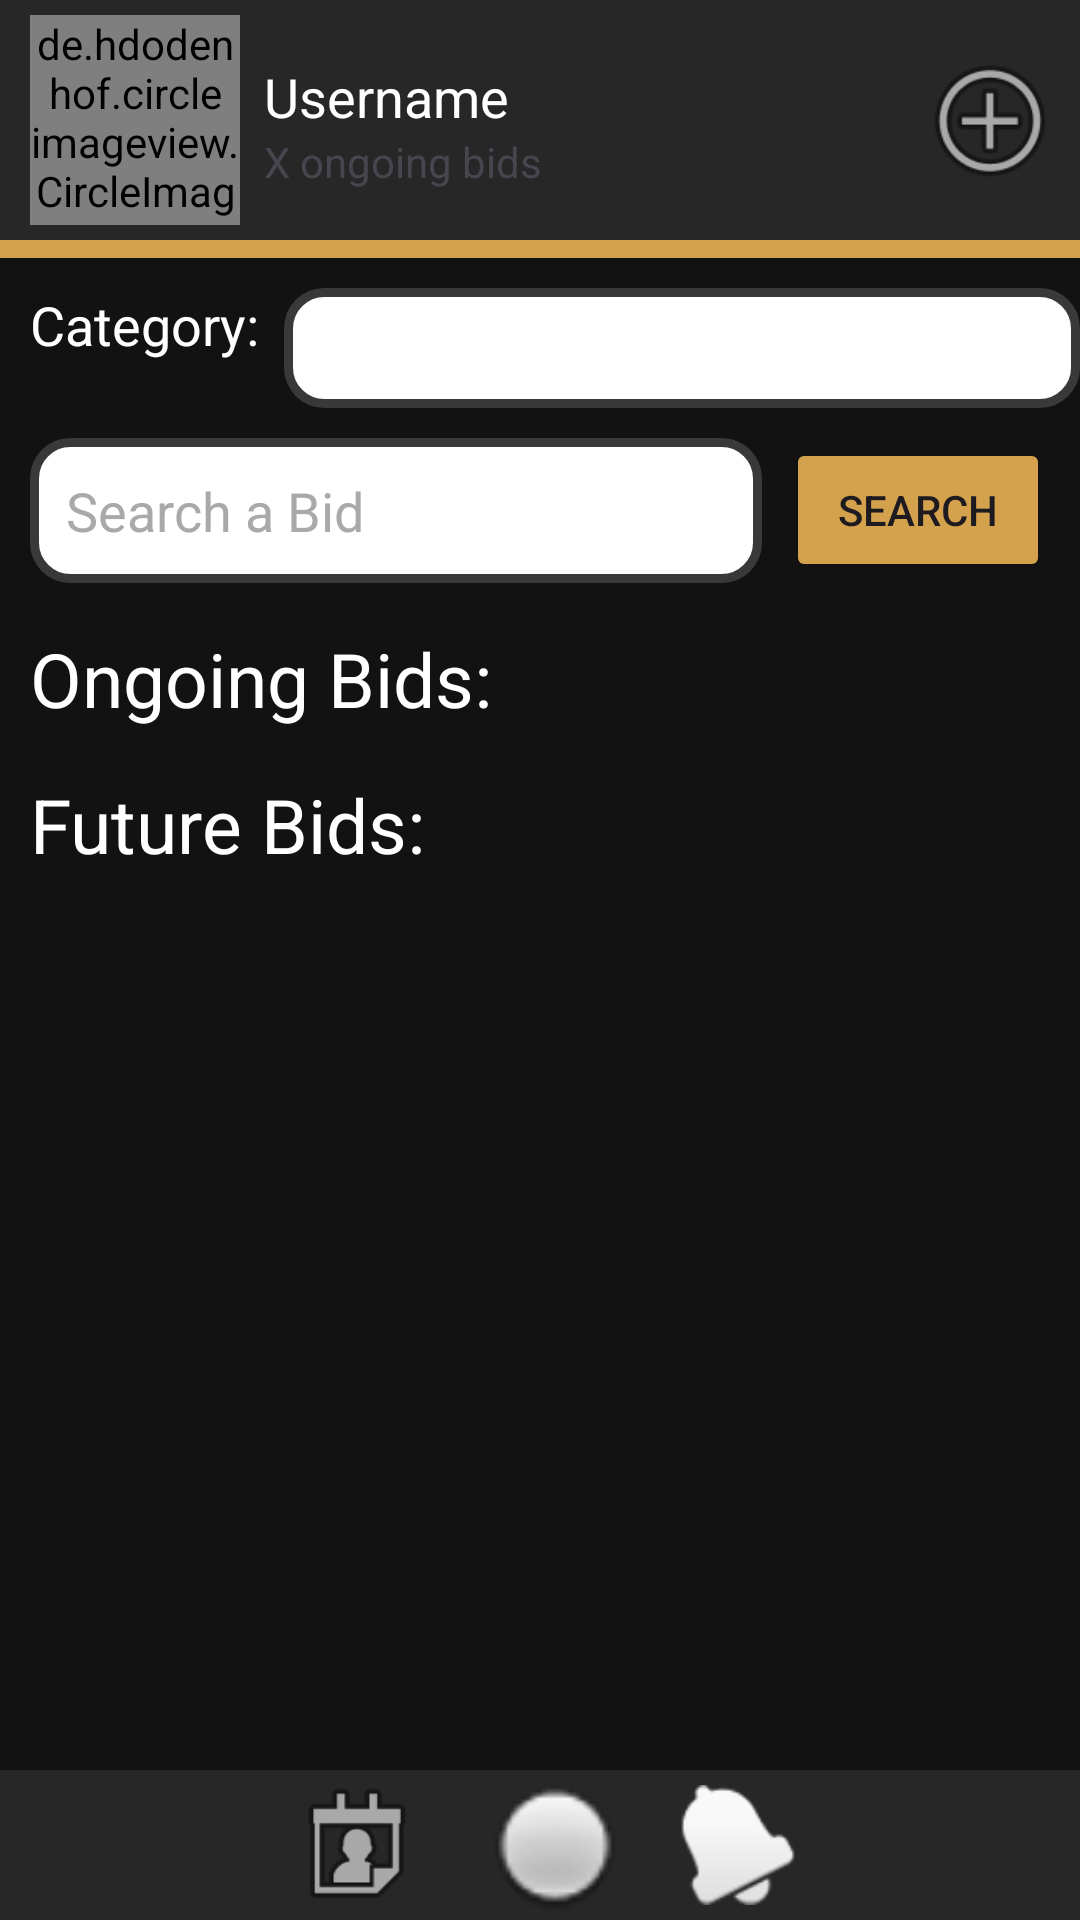

Where icons sit on this 1080 × 1920 app screen, as (x1, y1, x2, y2):
add: (939, 70, 1041, 172)
calendar: (313, 1793, 401, 1894)
popup reminder: (681, 1785, 795, 1905)
